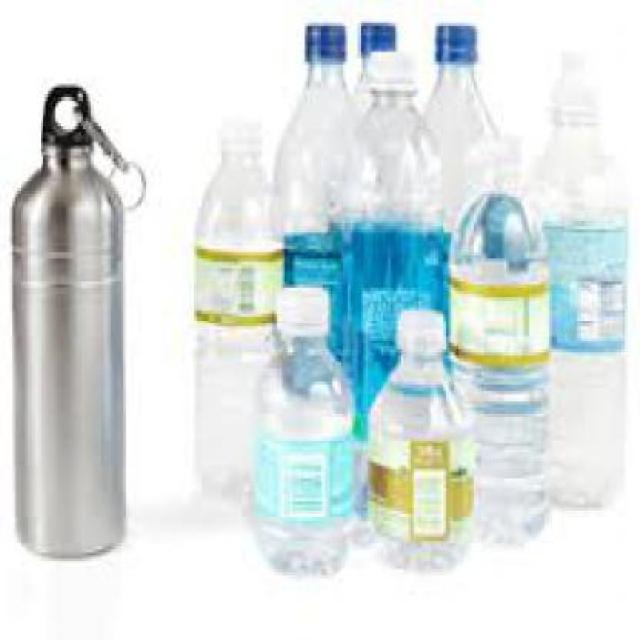Drinking: (15, 75, 139, 553), (446, 146, 580, 541), (266, 11, 384, 426), (225, 272, 384, 576)
